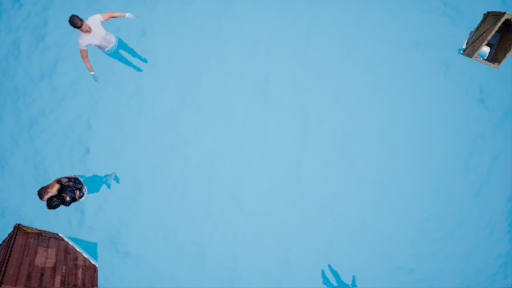person: (65, 9, 144, 83), (36, 169, 135, 217)
